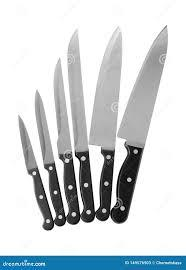Knife: (110, 24, 168, 223), (88, 25, 122, 221), (66, 27, 95, 222), (53, 57, 80, 224), (34, 89, 65, 226), (17, 114, 53, 230)
